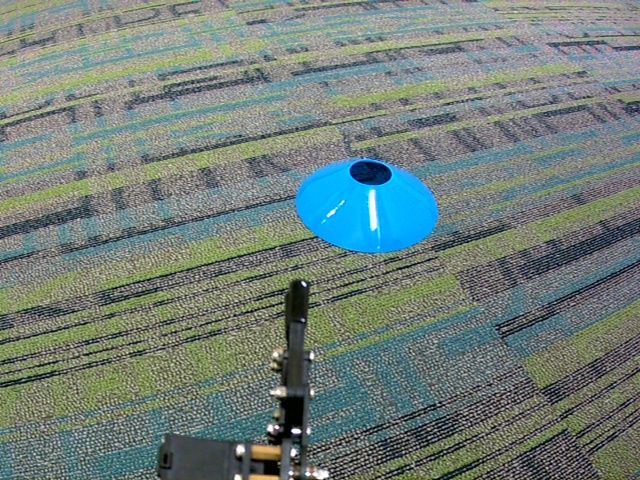cone: (295, 156, 440, 253)
